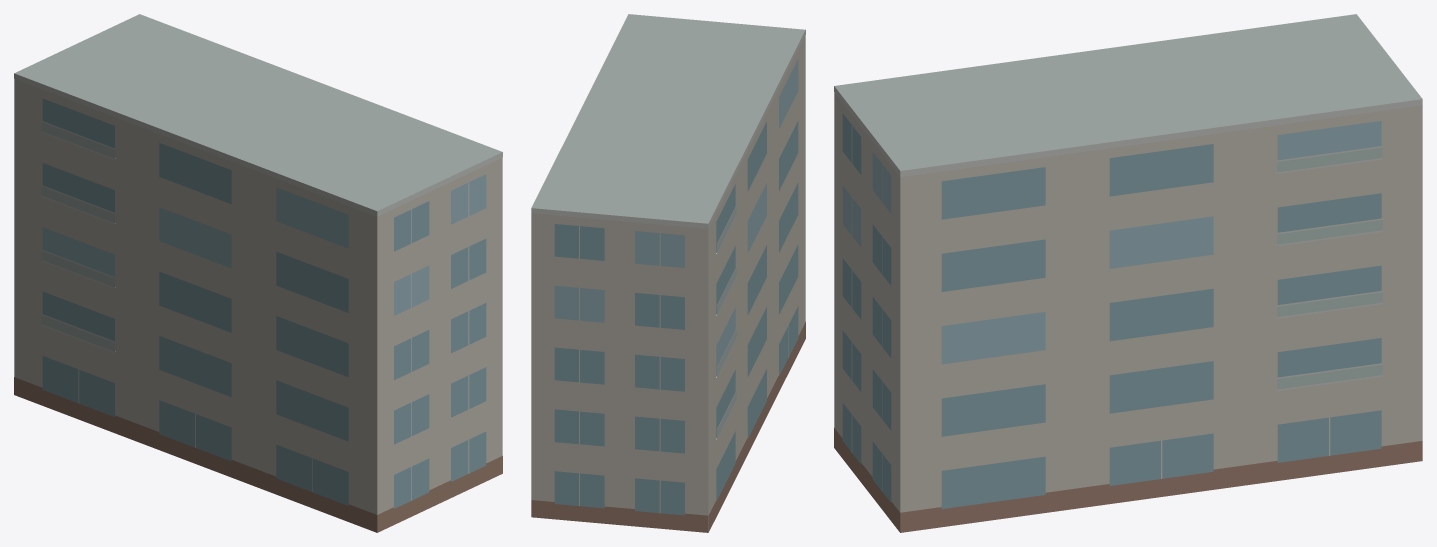
File: survey-upis-32959259.glb
The picture shows the model from 3 angles, left to right: view 1: azimuth 30°, elevation 25°; view 2: azimuth 150°, elevation 25°; view 3: azimuth 270°, elevation 25°; orthographic projection. The views are drawn at different scales.
Visible parts, largest first — view 1: survey-upis-32959259.tmp; view 2: survey-upis-32959259.tmp; view 3: survey-upis-32959259.tmp.
Boxes of the visible parts, x1,y1,x2,y2 form: survey-upis-32959259.tmp: (14,14,502,532); survey-upis-32959259.tmp: (531,14,805,532); survey-upis-32959259.tmp: (834,14,1422,532).
Size of the model in its own units: 13.5 by 14.5 by 21.38.
